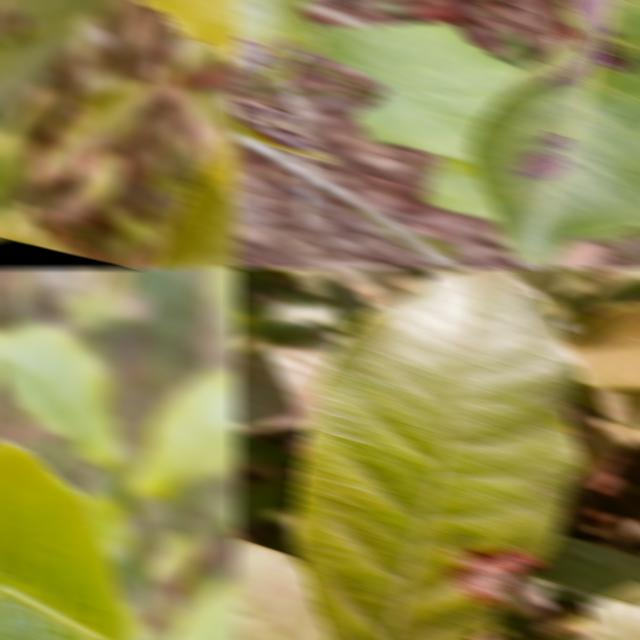Leaf: (293, 267, 582, 640), (467, 0, 640, 269), (0, 438, 133, 640), (0, 322, 122, 465), (232, 0, 331, 160), (500, 534, 640, 640), (127, 367, 240, 498), (27, 79, 153, 187), (146, 131, 240, 269), (232, 338, 341, 434), (232, 540, 334, 640), (0, 17, 85, 130), (562, 303, 640, 391), (164, 573, 240, 640), (0, 108, 32, 219)
